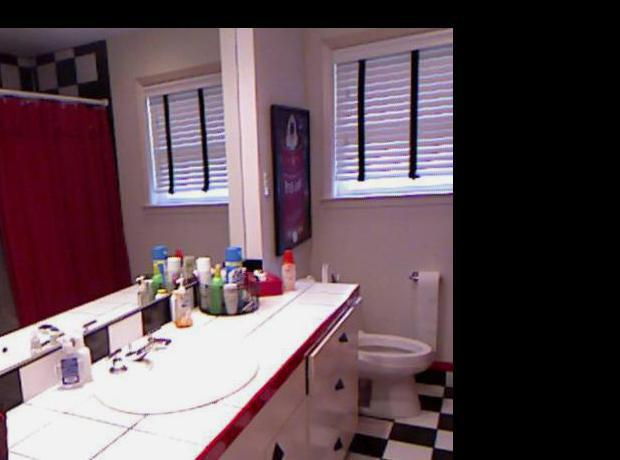Lavamanos: (82, 322, 259, 425)
Sanitario: (299, 258, 435, 420)
